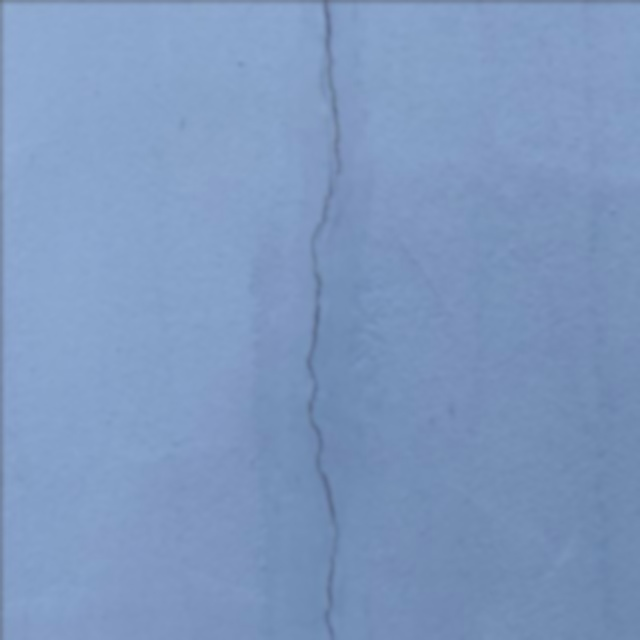SurfaceCrack: (256, 0, 391, 639)
